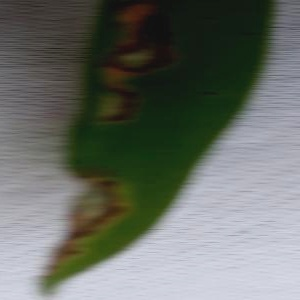Brown_Spot: (39, 170, 143, 262), (97, 6, 186, 79), (80, 75, 154, 126)
